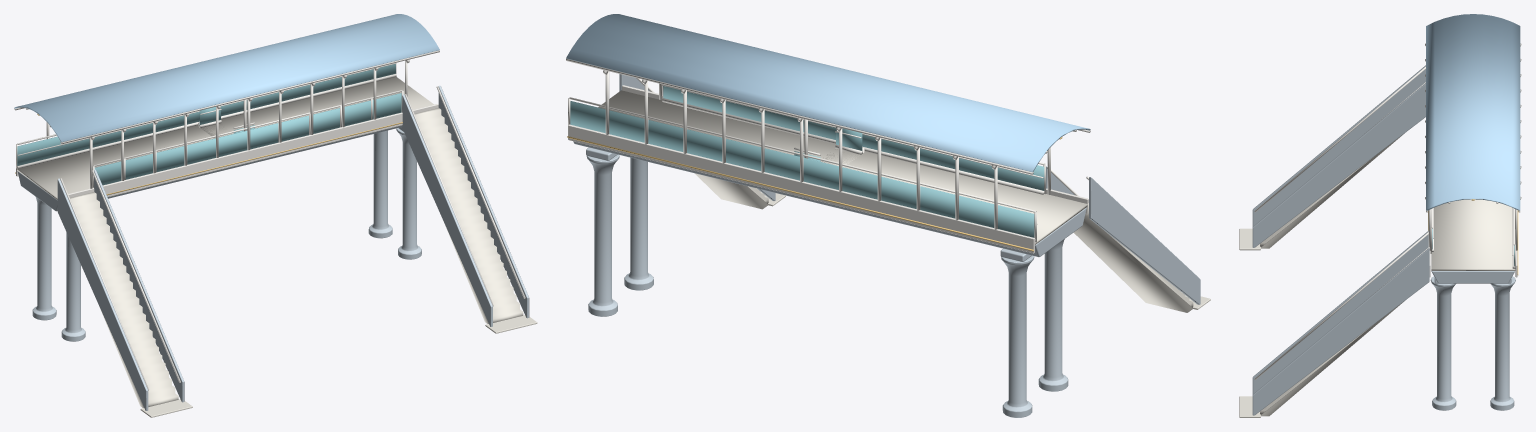
File: skywalk.glb
The picture shows the model from 3 angles, left to right: view 1: azimuth 30°, elevation 25°; view 2: azimuth 150°, elevation 25°; view 3: azimuth 270°, elevation 25°; orthographic projection. The views are drawn at different scales.
Parts seen in each view (by area): view 1: crossing, segment; view 2: crossing, segment; view 3: crossing.
Boxes of the visible parts, <box> form: crossing: <box>14,14,537,417</box>; segment: <box>198,99,254,138</box>; crossing: <box>566,14,1210,417</box>; segment: <box>794,119,864,167</box>; crossing: <box>1239,14,1521,417</box>.
Size of the model in its own units: 18.4 by 9.95 by 11.67.
